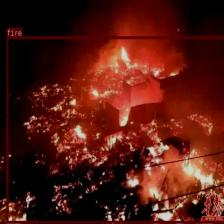fire: (5, 35, 224, 223)
